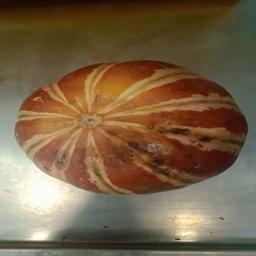Melon Semirotten: (14, 55, 251, 208)
